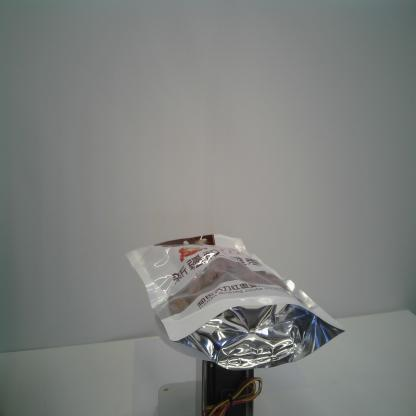Dried Food: (124, 231, 348, 372)
